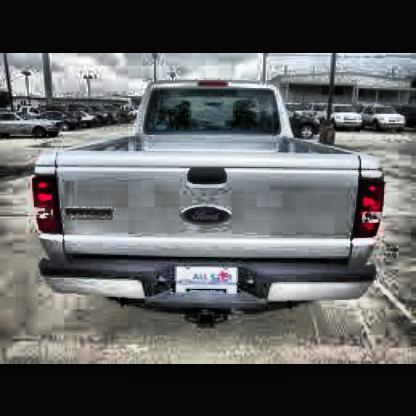Ford Ranger SuperCab 2011: (33, 83, 391, 333)
